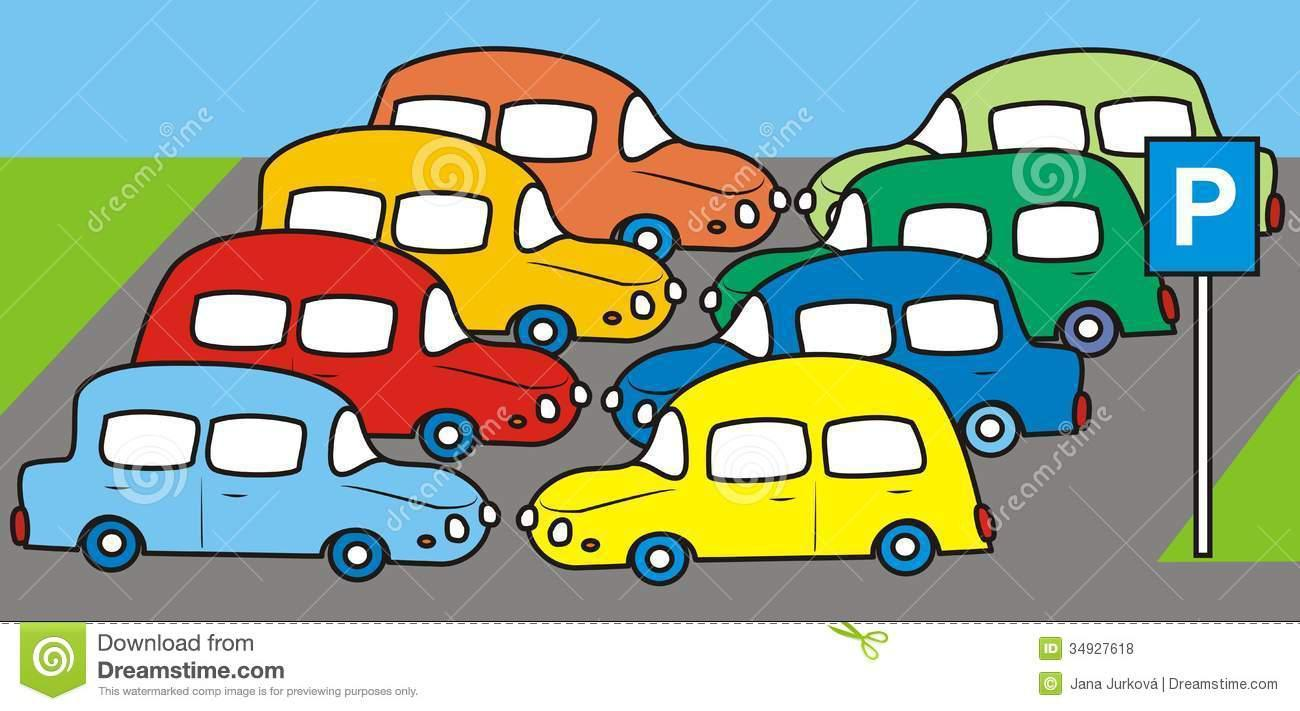car: (109, 215, 587, 463), (8, 352, 497, 591), (608, 243, 1112, 474), (806, 39, 1294, 266), (550, 356, 1009, 591), (234, 118, 672, 360), (353, 36, 778, 271), (716, 158, 1195, 359)
